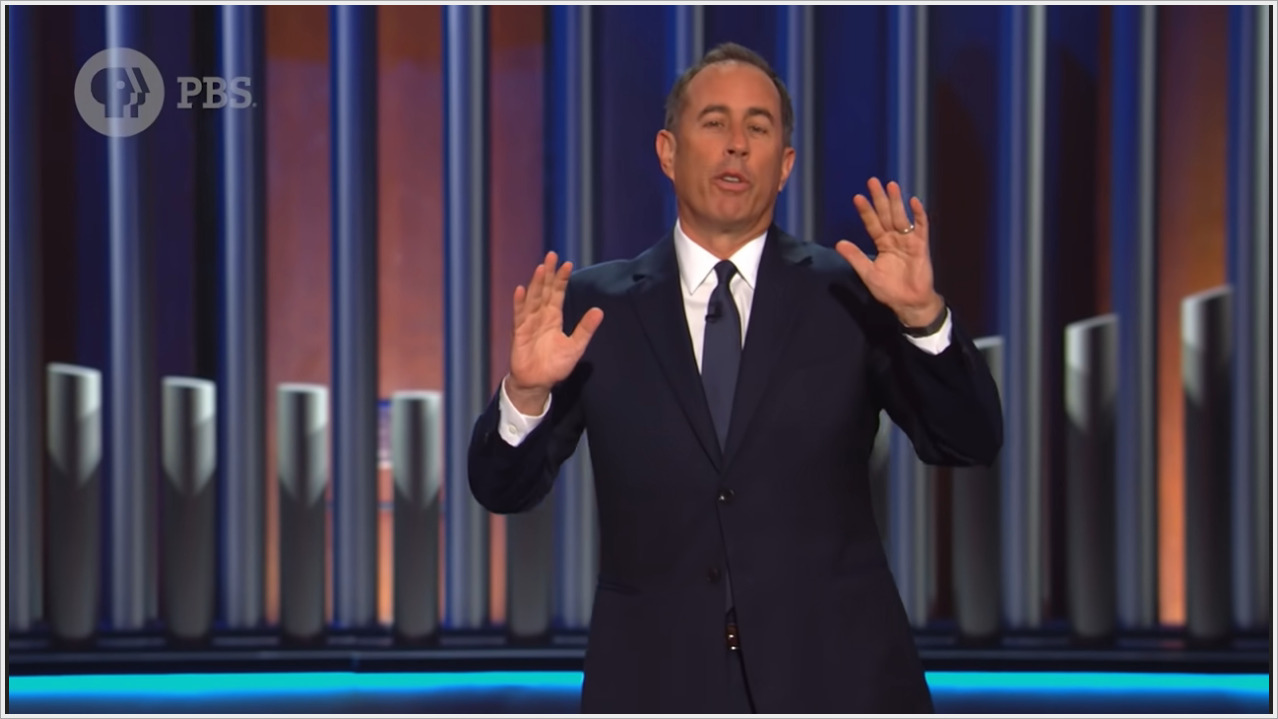hand: (834, 170, 937, 308), (512, 248, 607, 392)
